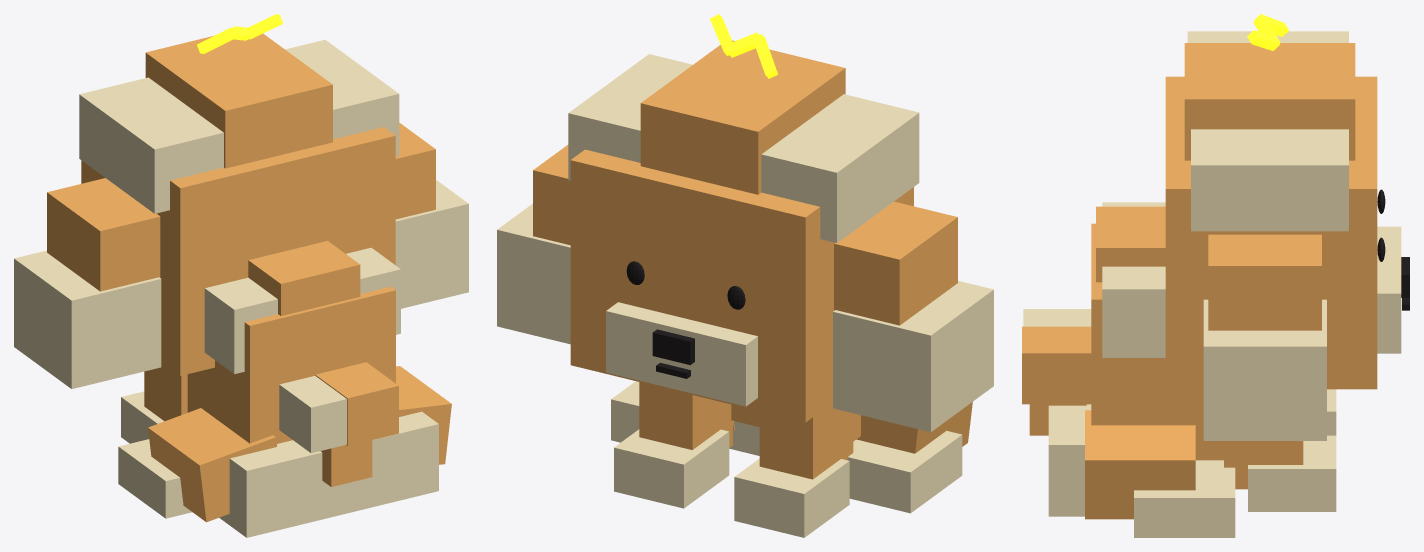
Rendered from Poodle_Block.glb.
3 renders of one model, left to right at view 1: azimuth 30°, elevation 25°; view 2: azimuth 150°, elevation 25°; view 3: azimuth 270°, elevation 25°, orthographic. The views are drawn at different scales.
Visible parts, largest first — view 1: CoreHead, BroadHeadPuffC, CompactTorso, LargeEarPuffL, GroundedRumpPuff, BroadHeadPuffL, SideEarBaseL, LegBL_Leg, LargeEarPuffR, BodyPuffC, BroadHeadPuffR, BodyPuffL (+10 smaller); view 2: CoreHead, BroadHeadPuffC, LargeEarPuffL, BroadHeadPuffL, SideEarBaseL, CreamMuzzle, LargeEarPuffR, LegFR_Paw, LegFL_Paw, LegBL_Paw, BroadHeadPuffR, LegFL_Leg (+8 smaller); view 3: CoreHead, BroadHeadPuffR, BroadHeadPuffC, LargeEarPuffR, SideEarBaseR, LegBR_Leg, CompactTorso, LegBR_Paw, BodyPuffR, TailPuffR, LegFR_Paw, BodyPuffC (+8 smaller).
Part boxes in pixels (x1,y1,x2,y2): CoreHead: [81, 127, 395, 375]; BroadHeadPuffC: [145, 33, 332, 168]; CompactTorso: [187, 286, 395, 443]; LargeEarPuffL: [14, 250, 161, 388]; GroundedRumpPuff: [219, 411, 438, 537]; BroadHeadPuffL: [79, 77, 223, 213]; SideEarBaseL: [47, 178, 160, 291]; LegBL_Leg: [148, 408, 276, 522]; LargeEarPuffR: [395, 180, 468, 308]; BodyPuffC: [248, 241, 360, 315]; BroadHeadPuffR: [285, 39, 399, 156]; BodyPuffL: [204, 277, 277, 374]; CoreHead: [570, 149, 913, 422]; BroadHeadPuffC: [640, 40, 845, 194]; LargeEarPuffL: [833, 281, 993, 432]; BroadHeadPuffL: [761, 94, 919, 242]; SideEarBaseL: [834, 201, 957, 325]; CreamMuzzle: [606, 302, 757, 406]; LargeEarPuffR: [497, 203, 570, 344]; LegFR_Paw: [614, 429, 729, 508]; LegFL_Paw: [734, 458, 849, 537]; LegBL_Paw: [847, 430, 962, 513]; BroadHeadPuffR: [568, 54, 692, 180]; LegFL_Leg: [759, 403, 853, 479]; CoreHead: [1165, 76, 1377, 389]; BroadHeadPuffR: [1191, 129, 1348, 231]; BroadHeadPuffC: [1184, 43, 1355, 160]; LargeEarPuffR: [1203, 299, 1326, 440]; SideEarBaseR: [1208, 234, 1321, 330]; LegBR_Leg: [1085, 410, 1195, 519]; CompactTorso: [1091, 223, 1223, 460]; LegBR_Paw: [1134, 460, 1235, 537]; BodyPuffR: [1102, 266, 1165, 357]; TailPuffR: [1022, 326, 1091, 404]; LegFR_Paw: [1248, 435, 1336, 511]; BodyPuffC: [1096, 206, 1165, 282].
Size of the model in its own units: 3.1 by 3.15 by 2.45.
